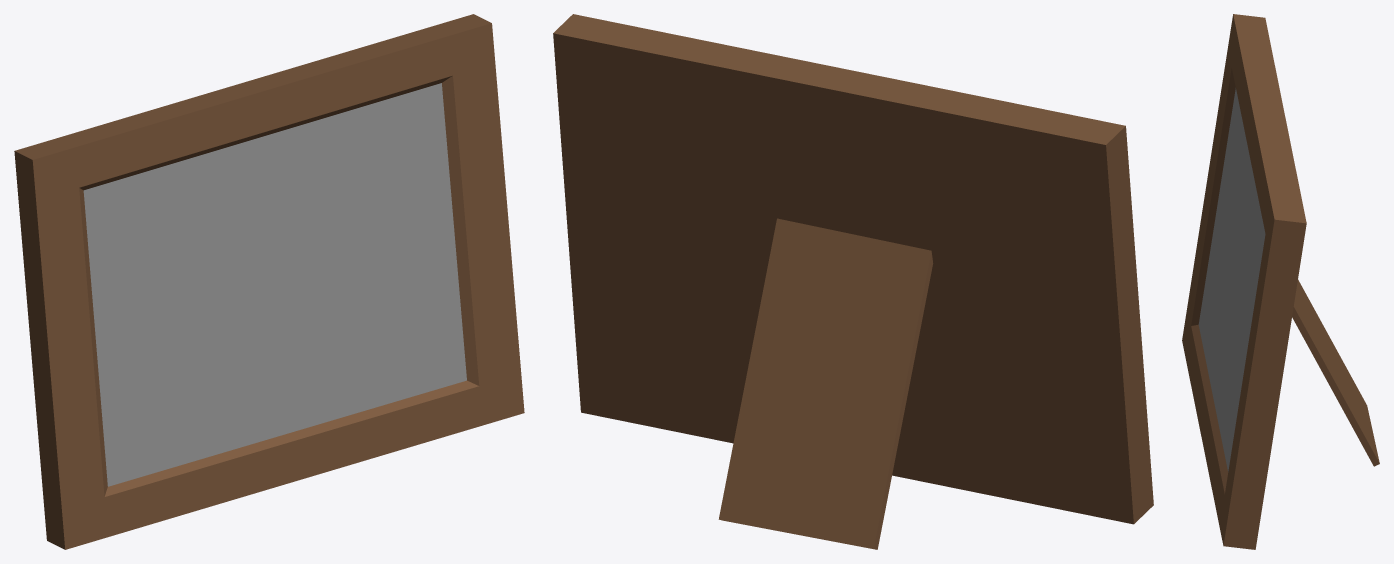
The model's file is Photoframe_9.fbx.
3 views of the same model, side by side, from view 1: azimuth 30°, elevation 25°; view 2: azimuth 150°, elevation 25°; view 3: azimuth 270°, elevation 25° (orthographic). The views are drawn at different scales.
Parts seen in each view (by area): view 1: Photoframe_9; view 2: Photoframe_9; view 3: Photoframe_9.
Part boxes in pixels (bbox=[...]): Photoframe_9: bbox=[14, 14, 524, 549]; Photoframe_9: bbox=[553, 14, 1153, 549]; Photoframe_9: bbox=[1182, 14, 1379, 549].
Size of the model in its own units: 28.71 by 11.5 by 21.19.
